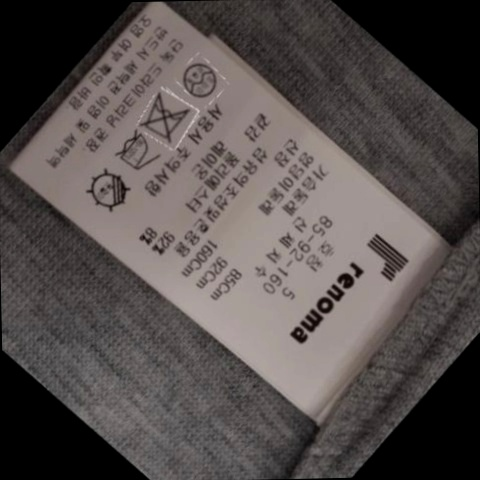DN_wash: (142, 96, 194, 140)
dry_clean_petrol_only: (181, 59, 222, 98)
iron_low: (113, 134, 159, 173)
line_dry_in_shade: (87, 171, 137, 211)
